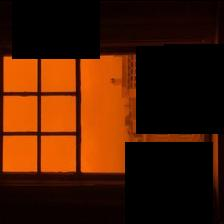green: (82, 55, 128, 171)
orange: (41, 135, 76, 170), (3, 135, 37, 171), (42, 95, 76, 130), (42, 55, 76, 90), (4, 95, 37, 130), (4, 55, 37, 90)
